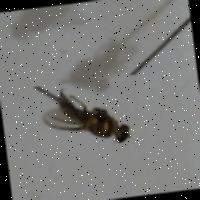Oriental-fruit-fly: (32, 74, 142, 160)
